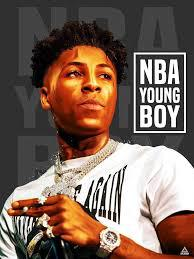quandale-dingle: (40, 37, 120, 136)
